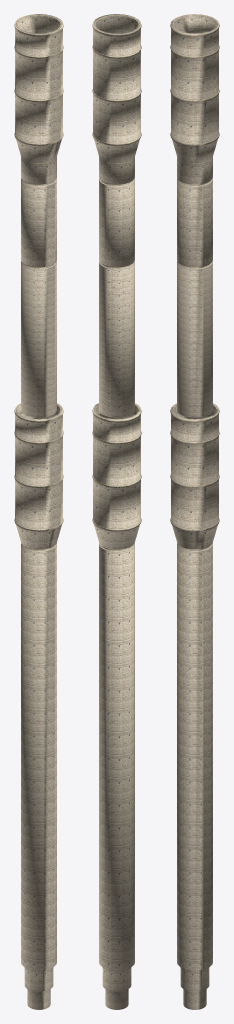
The model's file is torre.gltf.
The picture shows the model from 3 angles, left to right: view 1: azimuth 90°, elevation 25°; view 2: azimuth 150°, elevation 25°; view 3: azimuth 270°, elevation 25°; orthographic projection.
Parts seen in each view (by area): view 1: m3.002; view 2: m3.002; view 3: m3.002.
Part boxes in pixels (x1,y1,x2,y2): m3.002: [14, 14, 63, 1009]; m3.002: [92, 14, 141, 1009]; m3.002: [170, 14, 219, 1009].
Size of the model in its own units: 7.89 by 174 by 7.89.
Materials: 1 (1 with a texture image).
